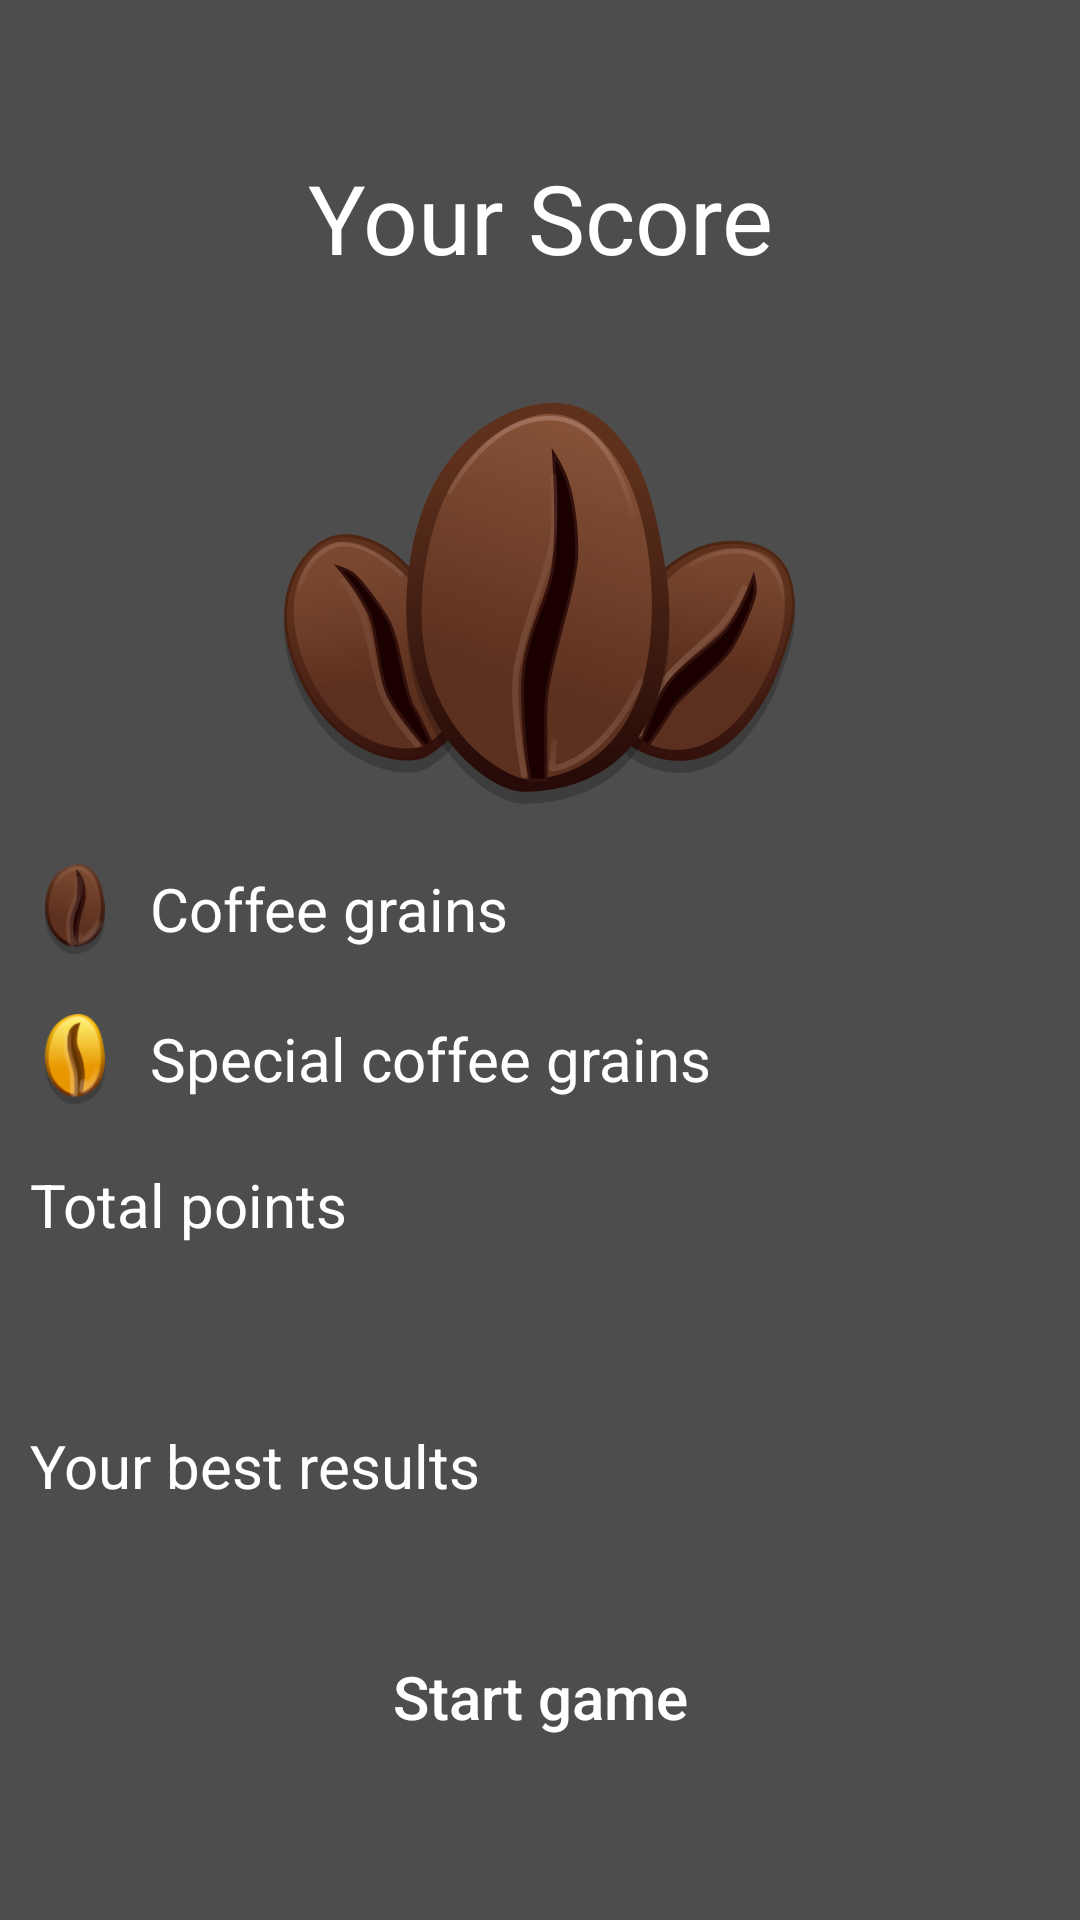

Screen size 1080w x 1920h. Icon name, then its box in pixels as (x1, y1, x2, y2):
score seed: (45, 864, 105, 947)
score special seed: (45, 1014, 105, 1097)
